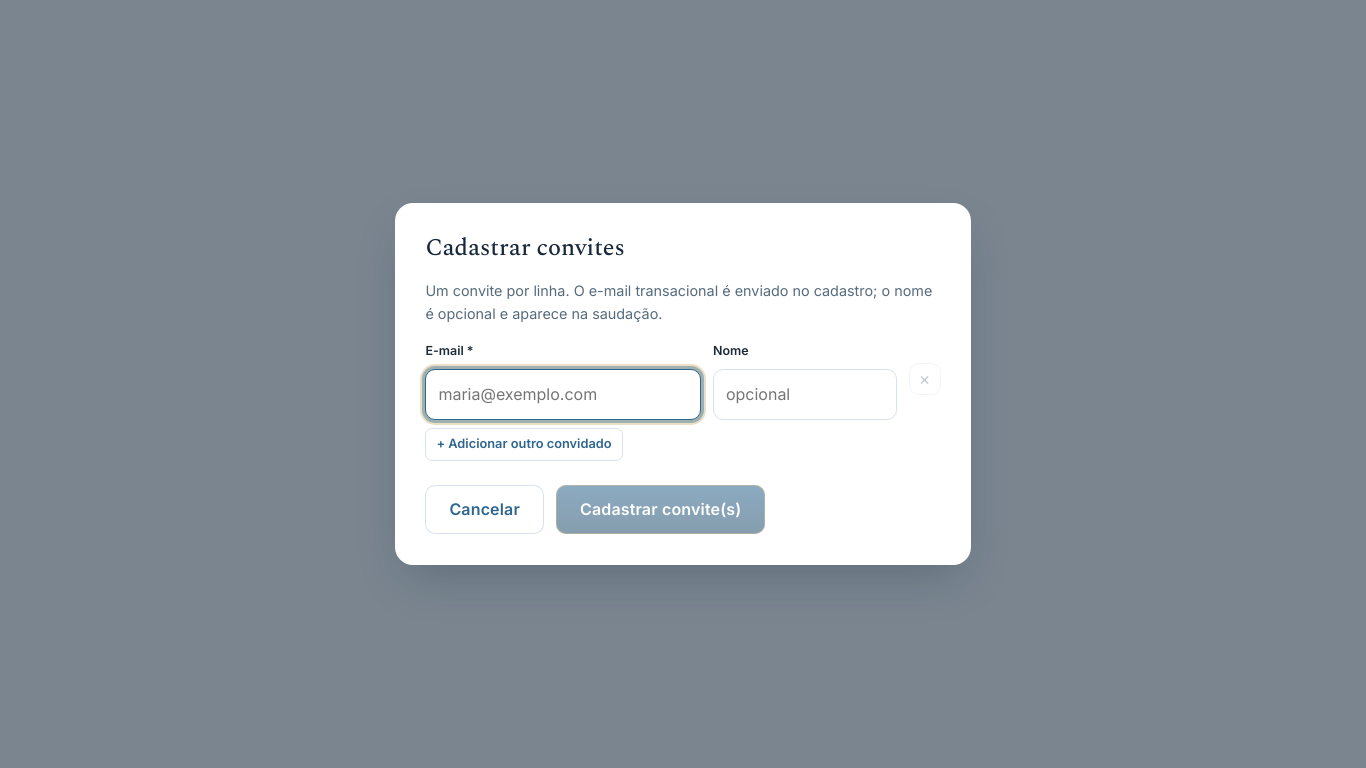
Test case: ModalConvite › adiciona e remove linhas; detecta e-mail repetido
The width and height of the screenshot is (1366, 768).
Type "a@x.com" into the field with placeholder "maria@exemplo.com" at (563, 395), box 425,369 -> 701,420
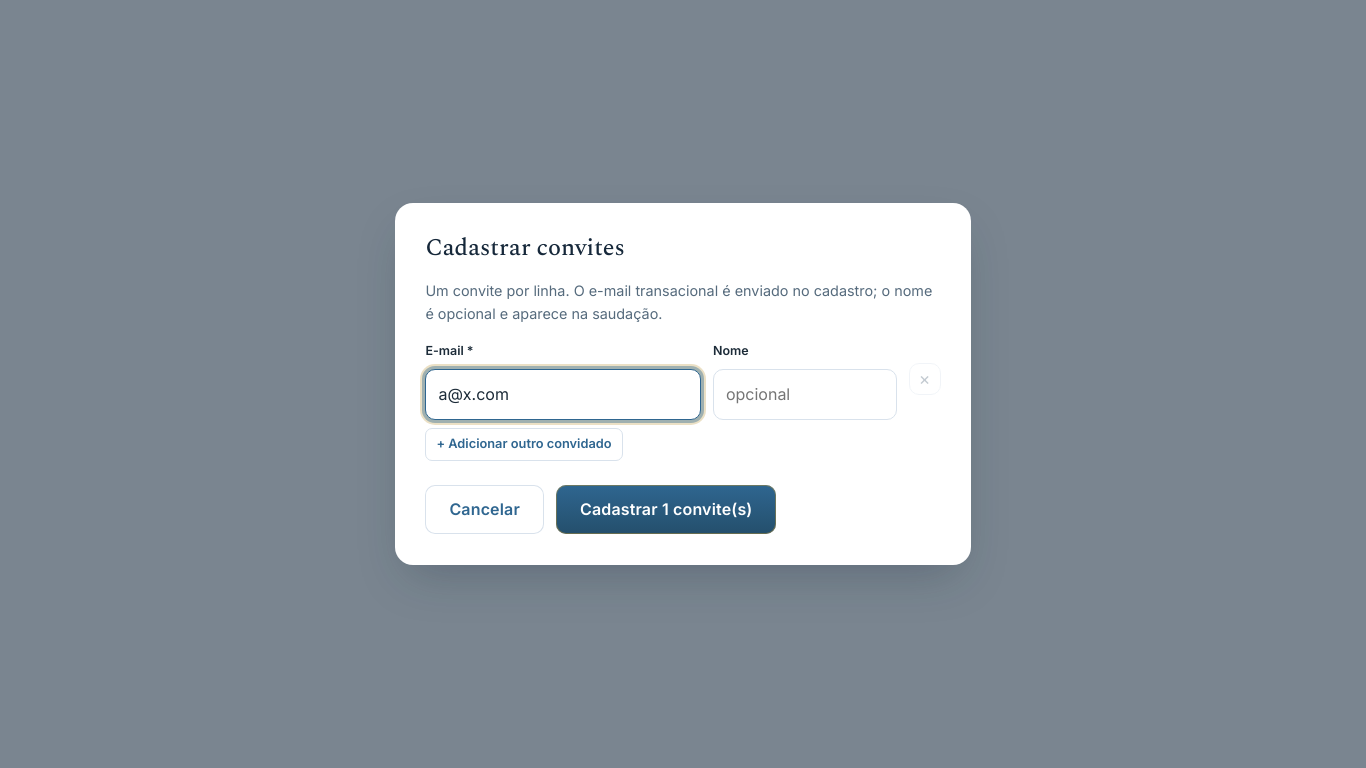
Click the button "+ Adicionar outro convidado" at (524, 445), box 425,428 -> 623,461
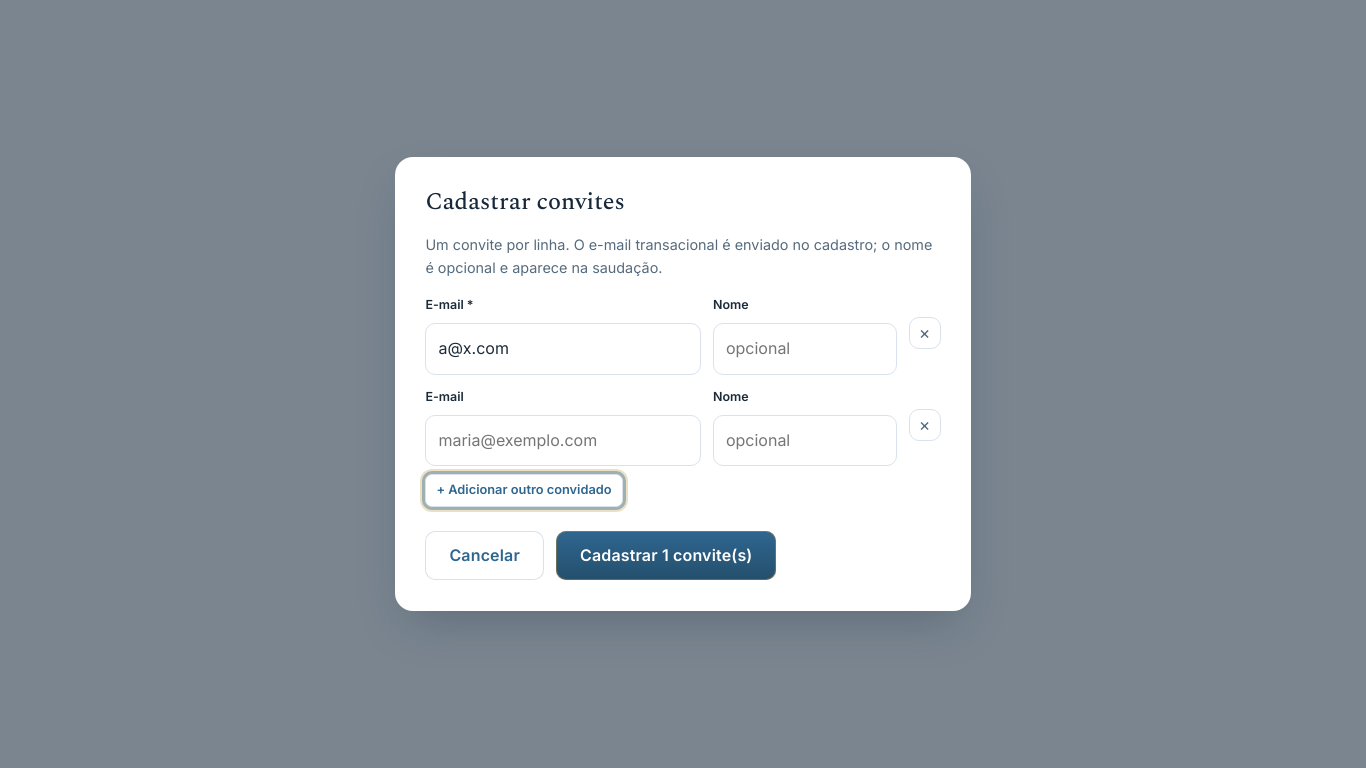
Expected: the number of fields with placeholder "maria@exemplo.com" is 2
Type "a@x.com" into the field with placeholder "maria@exemplo.com" at (563, 440), box 425,415 -> 701,466
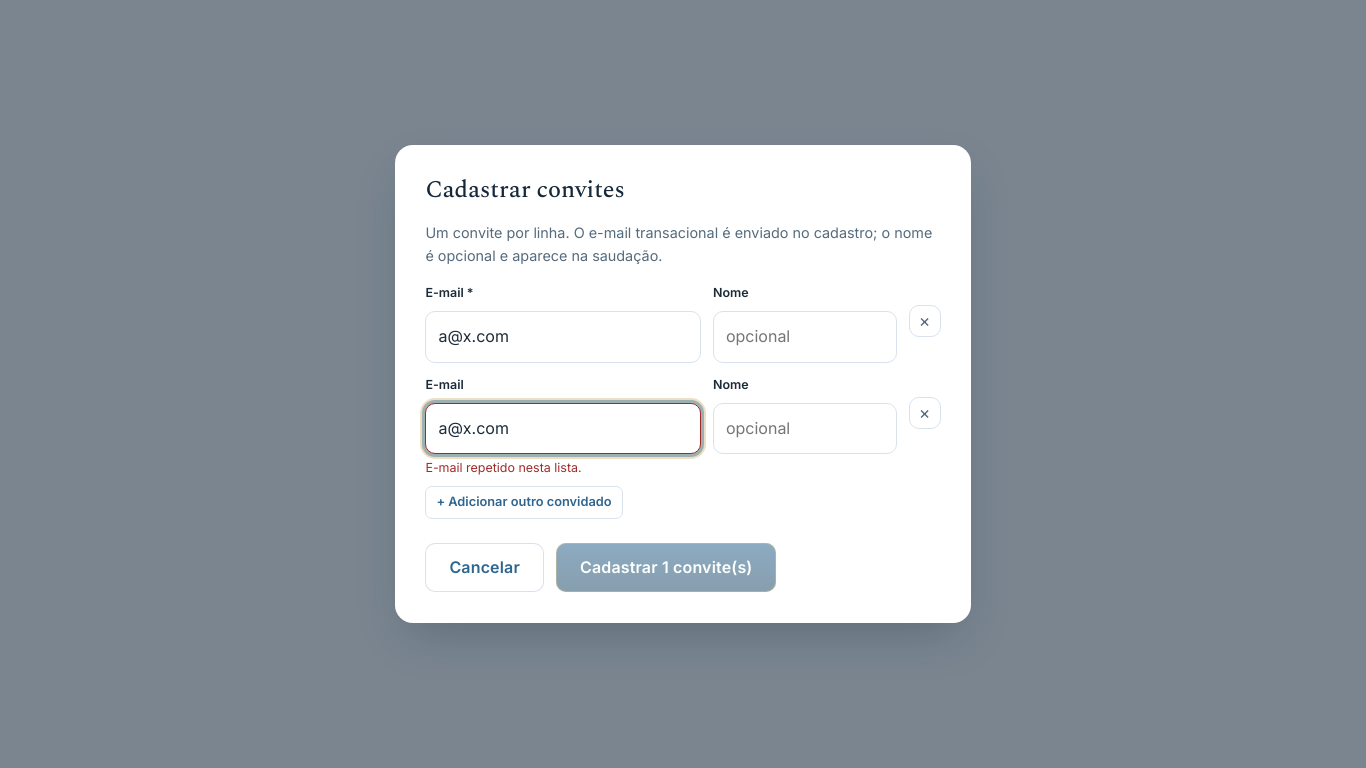
Expected: the text "E-mail repetido nesta lista." is shown, 425,460 -> 582,475
Expected: the button "Cadastrar 1 convite(s)" is disabled, 556,543 -> 776,592
Click the button named "remover linha 2" at (925, 413), box 909,397 -> 941,429
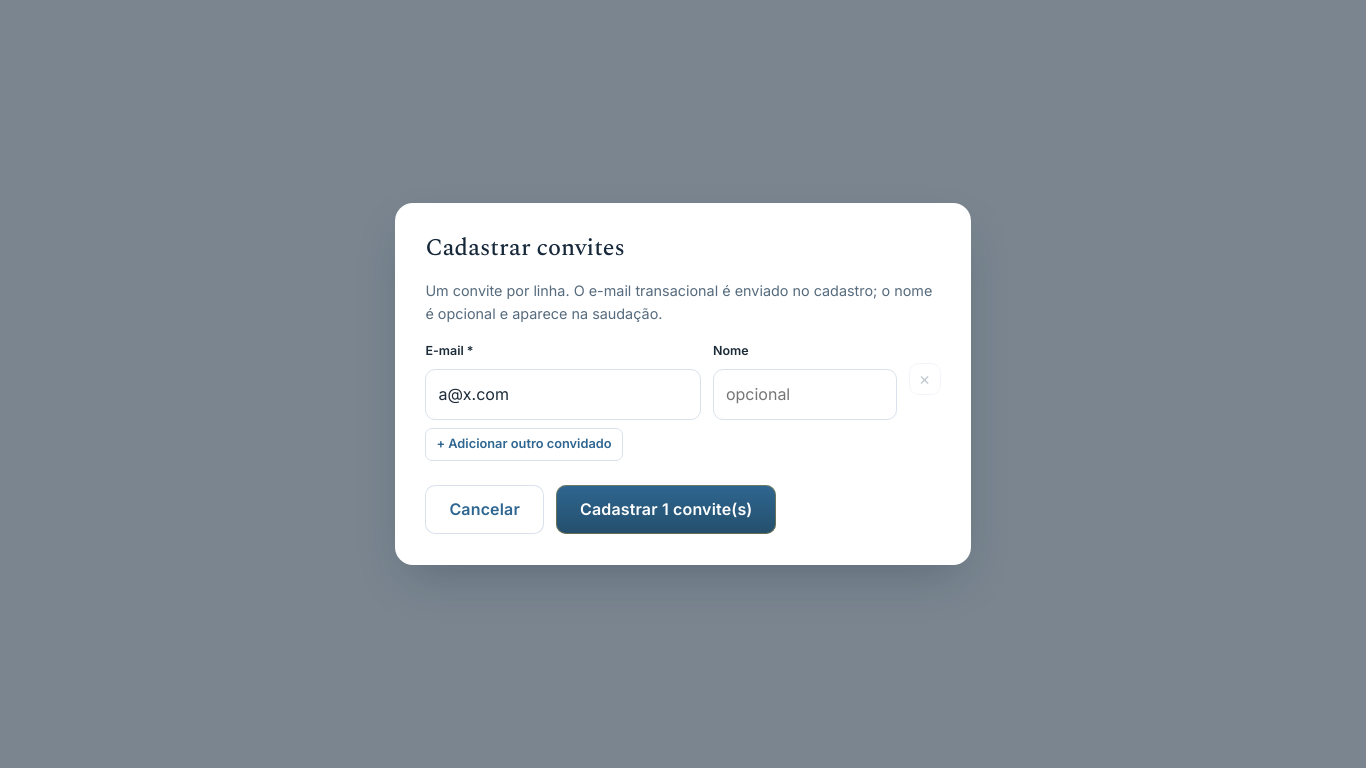
Expected: the number of fields with placeholder "maria@exemplo.com" is 1, 425,369 -> 701,420
Expected: the button "Cadastrar 1 convite(s)" is enabled, 556,485 -> 776,534
